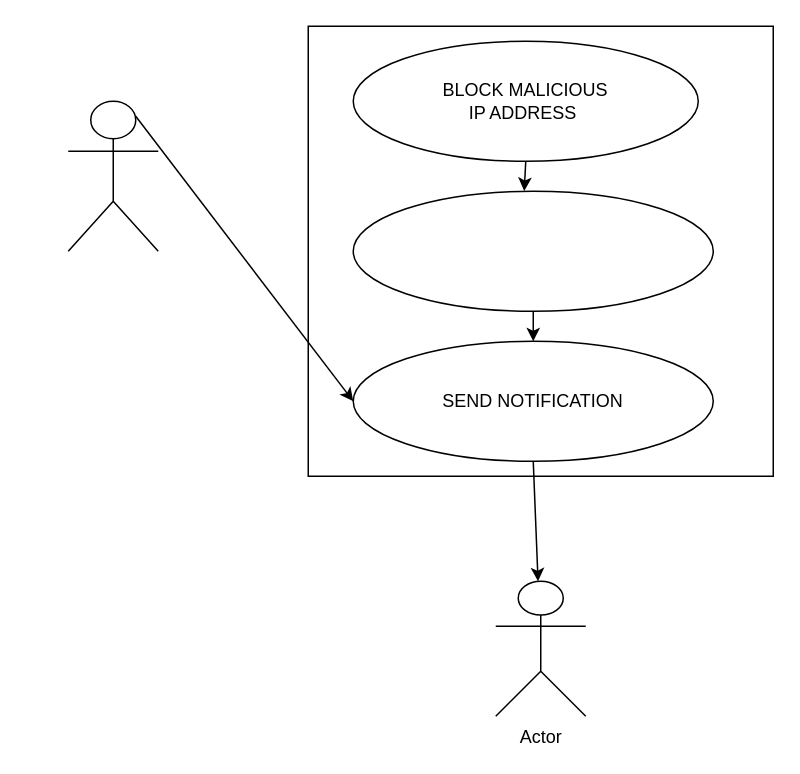
The diagram is 800 pixels wide and 774 high, and some of its shapes have lost their labels. The shapes that lost their labels are listed below. From the top down, each one's centre as x and y in pixels, then its label:
At point 112,175: "SECURITY ANALYST".
At point 532,250: "ISOLATE COMPROMISED END POINT".
